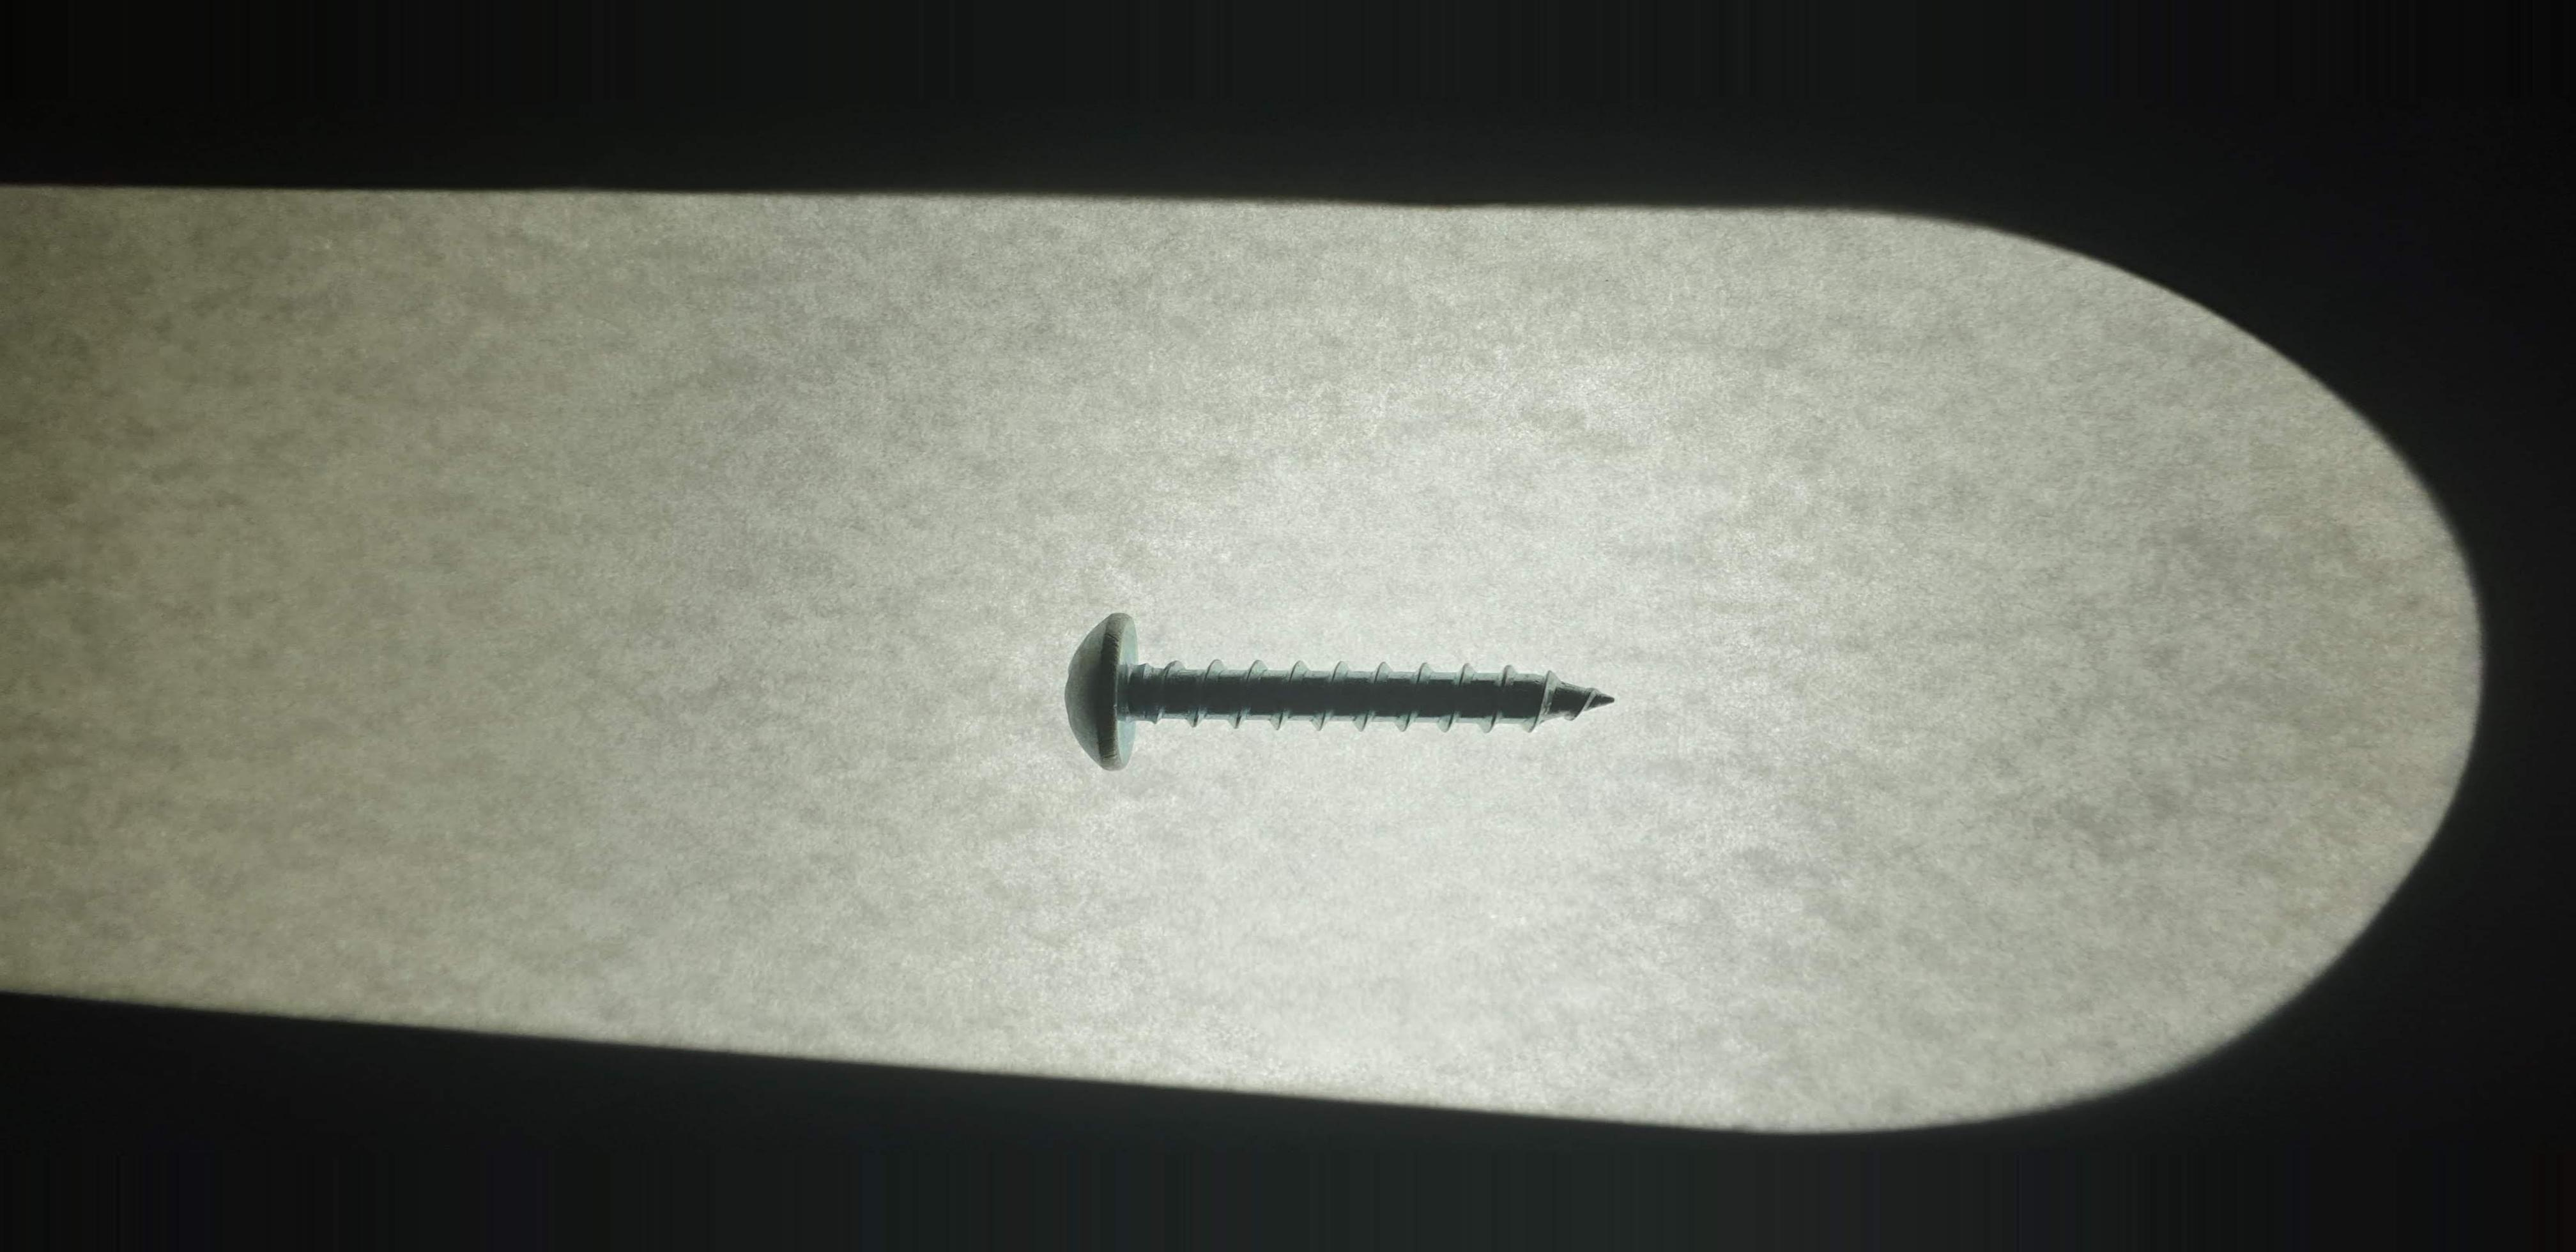S002: (999, 542, 1649, 817)
